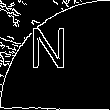N_S: (34, 29, 76, 81)
